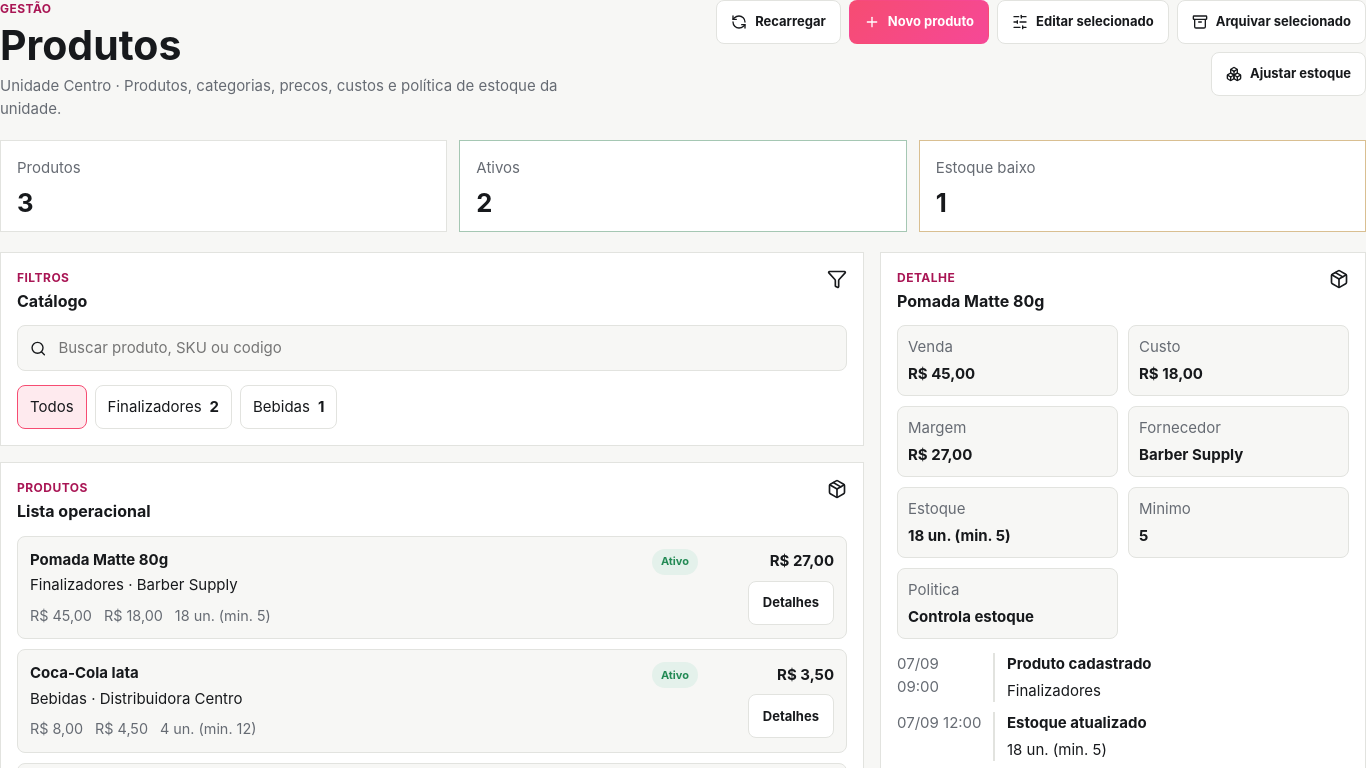
Test case: ProductView › opens product detail/history and stock adjustment surfaces
The image size is (1366, 768).
What coordinates should you click on to do the following:
click the 1st button "Detalhes"
I would click on:
 (791, 603)
Its box is 748,581 -> 834,625.
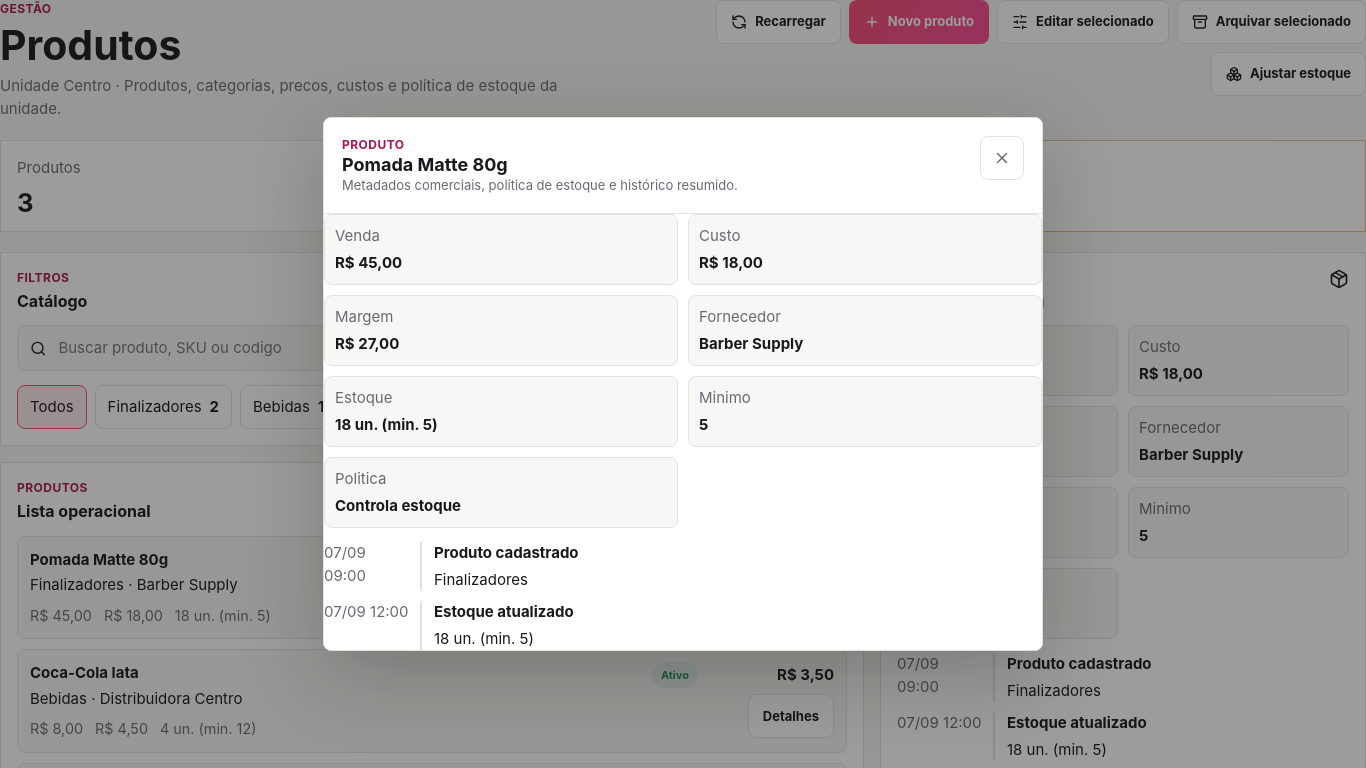
Check: the dialog shows "Metadados comerciais", box 342,176 -> 738,192
Check: the dialog shows "Produto cadastrado", box 434,543 -> 579,562
Check: the button named "Fechar" is shown
What coordinates should you click on to do the following:
click the button named "Fechar"
I would click on:
 (1002, 158)
Its box is 980,136 -> 1024,180.
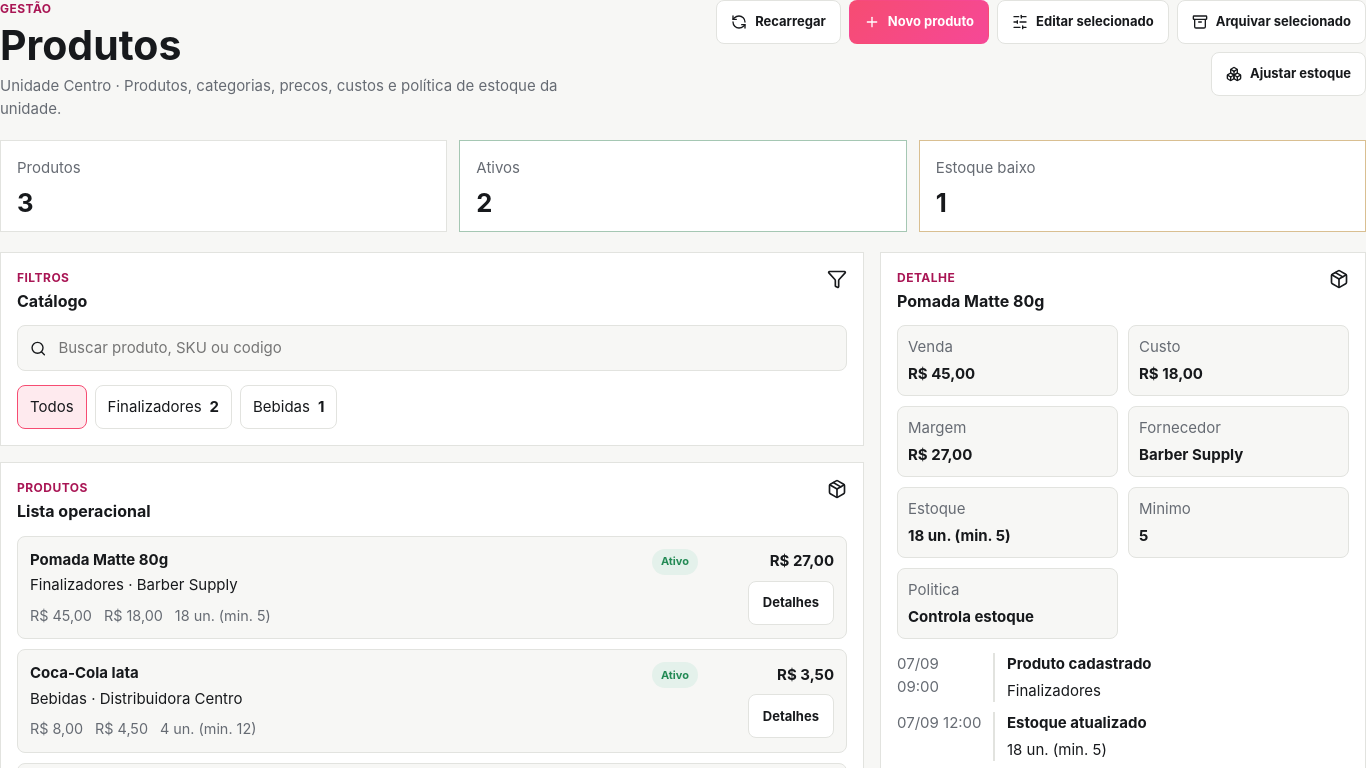
What coordinates should you click on to do the following:
click the button "Ajustar estoque"
I would click on:
 (1288, 74)
Its box is 1211,52 -> 1365,96.
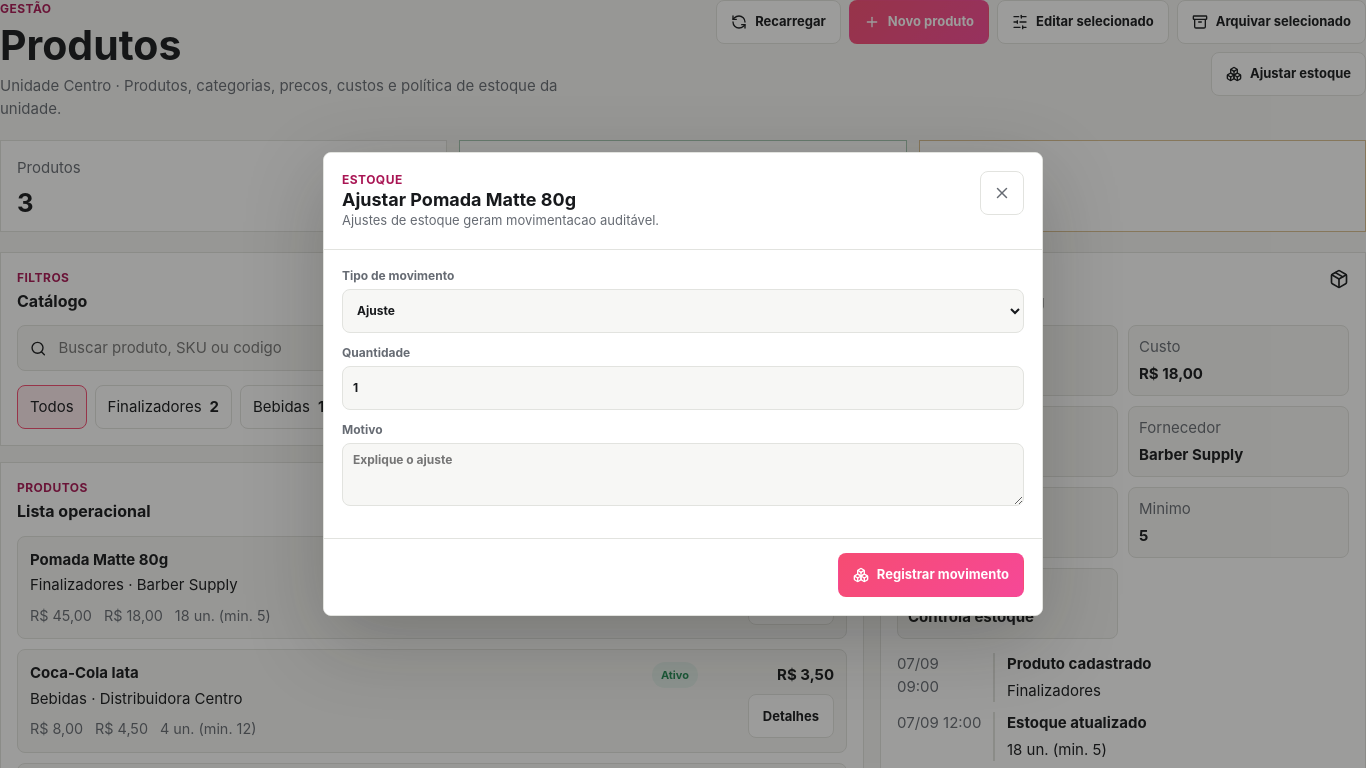
Check: the dialog shows "Registrar movimento", box 838,552 -> 1024,596
